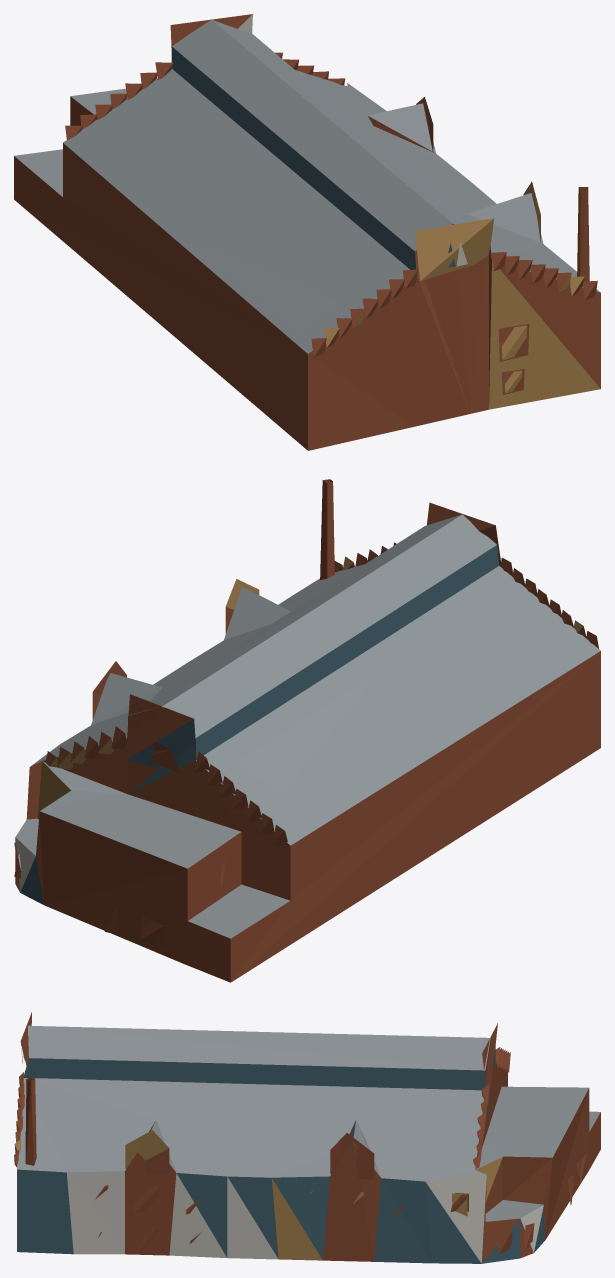
Rendered from zuiderbad.lod2.glb.
3 renders of one model, top to bottom at view 1: azimuth 30°, elevation 25°; view 2: azimuth 150°, elevation 25°; view 3: azimuth 270°, elevation 25°, orthographic. The views are drawn at different scales.
Parts seen in each view (by area): view 1: lod2; view 2: lod2; view 3: lod2.
Boxes of the visible parts, box(x1,y1,x2,y2) form: lod2: box(14, 14, 600, 450); lod2: box(14, 479, 600, 982); lod2: box(14, 1012, 600, 1263).
Size of the model in its own units: 33.68 by 20.4 by 64.23.
